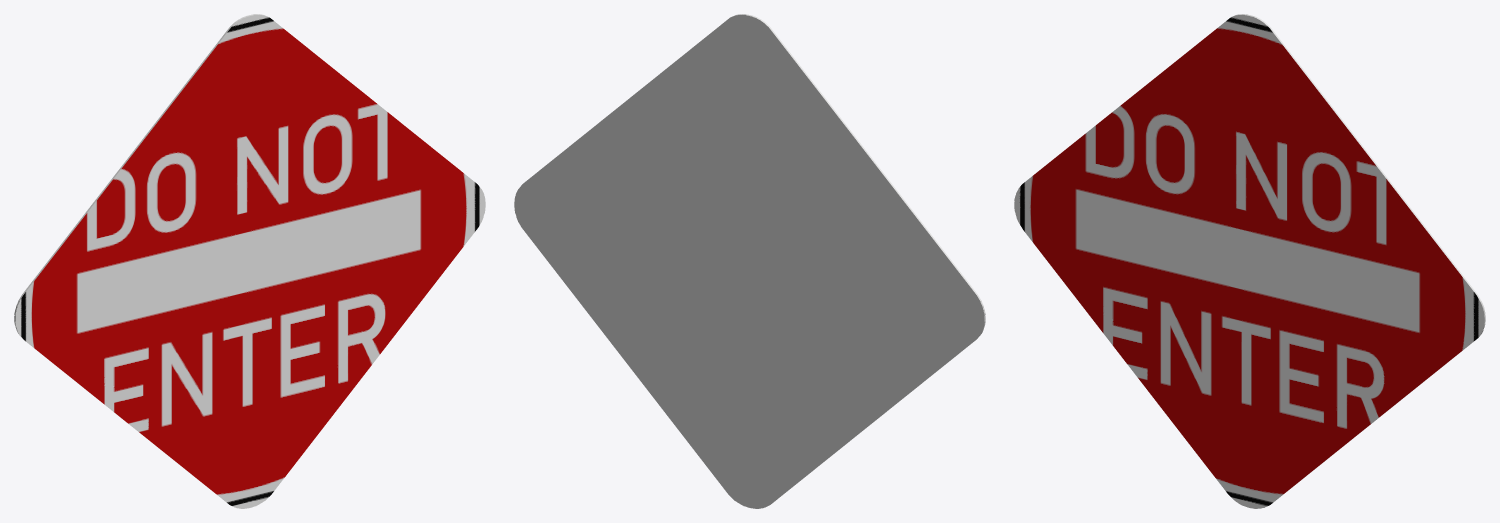
File: TrafficSign_Square_2.fbx
3 renders of one model, left to right at view 1: azimuth 30°, elevation 25°; view 2: azimuth 150°, elevation 25°; view 3: azimuth 330°, elevation 25°, orthographic.
Visible parts, largest first — view 1: 立方体; view 2: 立方体; view 3: 立方体.
Part boxes in pixels (left/top/right/bottom): 立方体: left=14, top=14, right=485, bottom=508; 立方体: left=514, top=14, right=985, bottom=508; 立方体: left=1014, top=14, right=1485, bottom=508.
Size of the model in its own units: 192 by 192 by 0.8.
